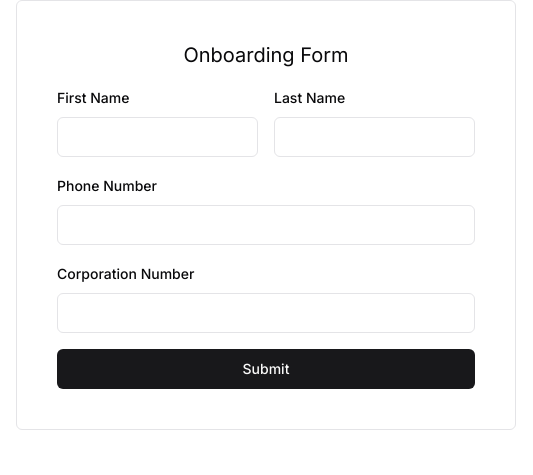
Test: OnboardingForm › displays an error message when the phone number is invalidated by the backend
In the field labelled "First Name": (158, 137) [57,117,258,157], type "First"
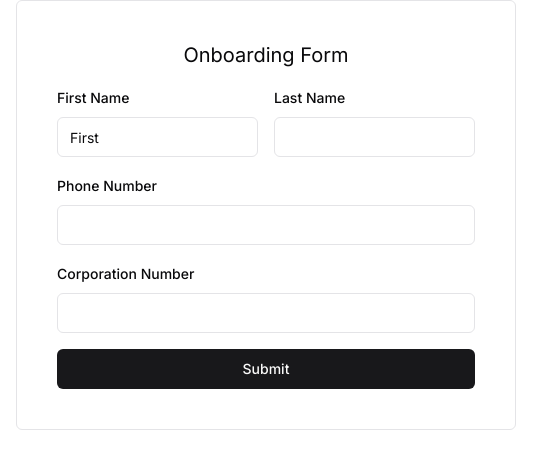
In the field labelled "Last Name": (374, 137) [274,117,475,157], type "Last"
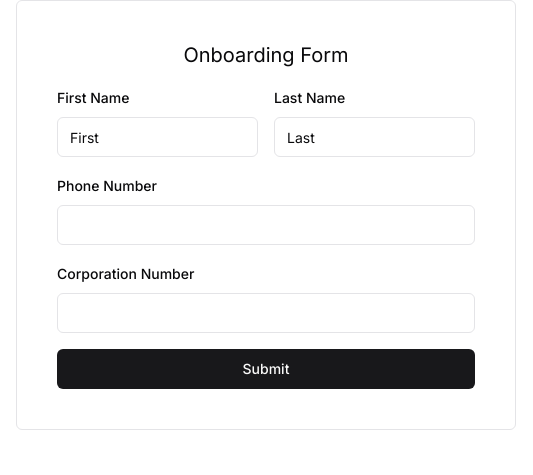
In the field labelled "Phone Number": (266, 225) [57,205,475,245], type "+11111112345"
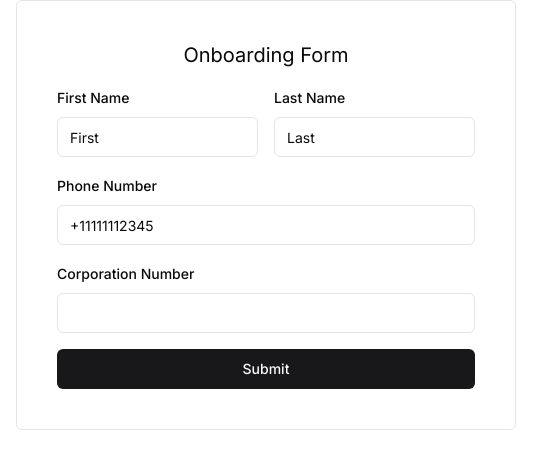
In the field labelled "Corporation Number": (266, 313) [57,293,475,333], type "123456789"
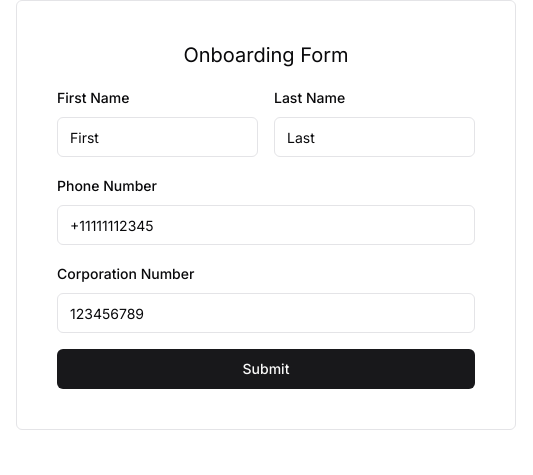
Click the button "Submit": (266, 369) [57,349,475,389]
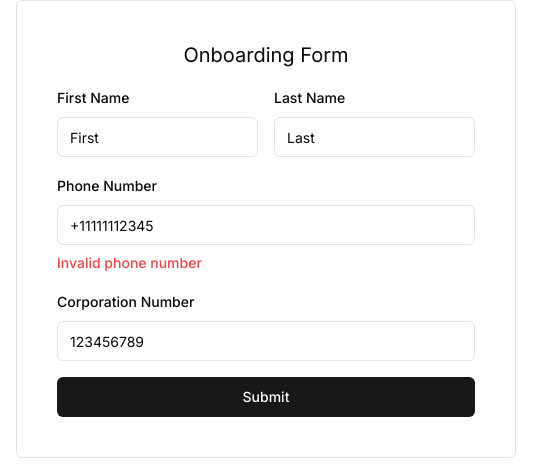
Check: the text "Invalid phone number" is shown, box [57,254,202,271]
